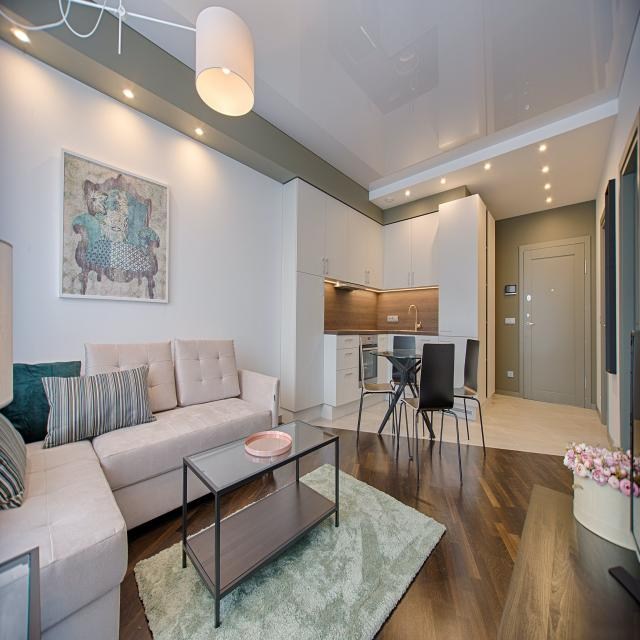floor: (306, 393, 640, 640), (119, 469, 448, 640), (220, 460, 296, 522), (299, 441, 336, 504), (187, 492, 215, 541), (406, 403, 413, 457), (634, 418, 640, 458), (396, 402, 401, 434), (426, 411, 431, 424), (278, 422, 285, 426), (423, 411, 426, 419), (390, 401, 392, 405)
